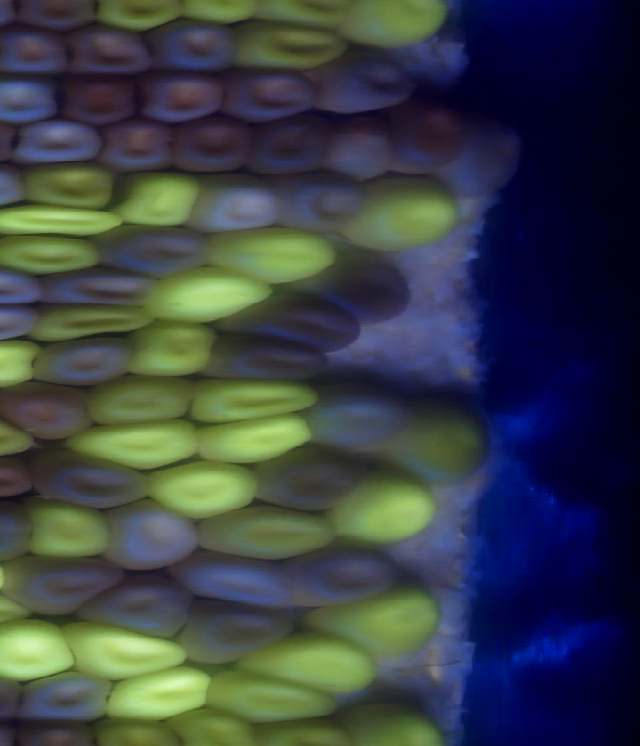fluorescent: (302, 577, 447, 662), (237, 624, 386, 700), (381, 396, 501, 490), (339, 170, 471, 255), (57, 610, 195, 690), (134, 260, 283, 329), (322, 466, 442, 551), (191, 499, 342, 565), (200, 219, 343, 288), (58, 413, 213, 476), (200, 665, 344, 731), (139, 453, 265, 523), (183, 368, 327, 429), (18, 489, 123, 569), (223, 14, 358, 76), (187, 409, 322, 470), (95, 659, 219, 724), (79, 369, 203, 431), (120, 315, 225, 383), (26, 295, 167, 344), (110, 167, 207, 231), (14, 156, 119, 214), (0, 613, 81, 687), (344, 1, 456, 52), (335, 697, 450, 746), (0, 198, 131, 241), (0, 230, 108, 279), (162, 703, 261, 746), (87, 1, 193, 35), (248, 1, 361, 29), (0, 408, 46, 467), (0, 335, 46, 394), (174, 1, 264, 29), (0, 587, 44, 641)
nonfluorescent: (66, 571, 209, 647), (169, 592, 297, 673), (219, 289, 372, 355), (0, 549, 134, 623), (164, 543, 301, 615), (298, 379, 424, 457), (278, 539, 409, 613), (246, 441, 375, 516), (306, 242, 417, 329), (92, 496, 206, 579), (24, 444, 160, 513), (262, 160, 371, 238), (309, 42, 420, 118), (435, 113, 528, 202), (85, 220, 215, 282), (385, 89, 470, 181), (198, 330, 335, 386), (183, 168, 290, 236), (215, 64, 328, 127), (0, 376, 97, 446), (11, 669, 124, 729), (240, 110, 338, 179), (166, 110, 264, 179), (142, 13, 244, 77), (92, 112, 184, 182), (32, 262, 164, 310), (319, 113, 402, 189), (58, 18, 161, 79), (25, 334, 139, 389), (135, 65, 235, 127), (5, 112, 111, 167), (55, 69, 145, 130), (0, 18, 80, 80), (0, 71, 65, 127), (10, 1, 107, 36), (0, 494, 41, 568), (0, 259, 55, 309), (0, 453, 41, 509), (0, 300, 47, 346), (0, 159, 37, 217), (0, 669, 33, 729)
